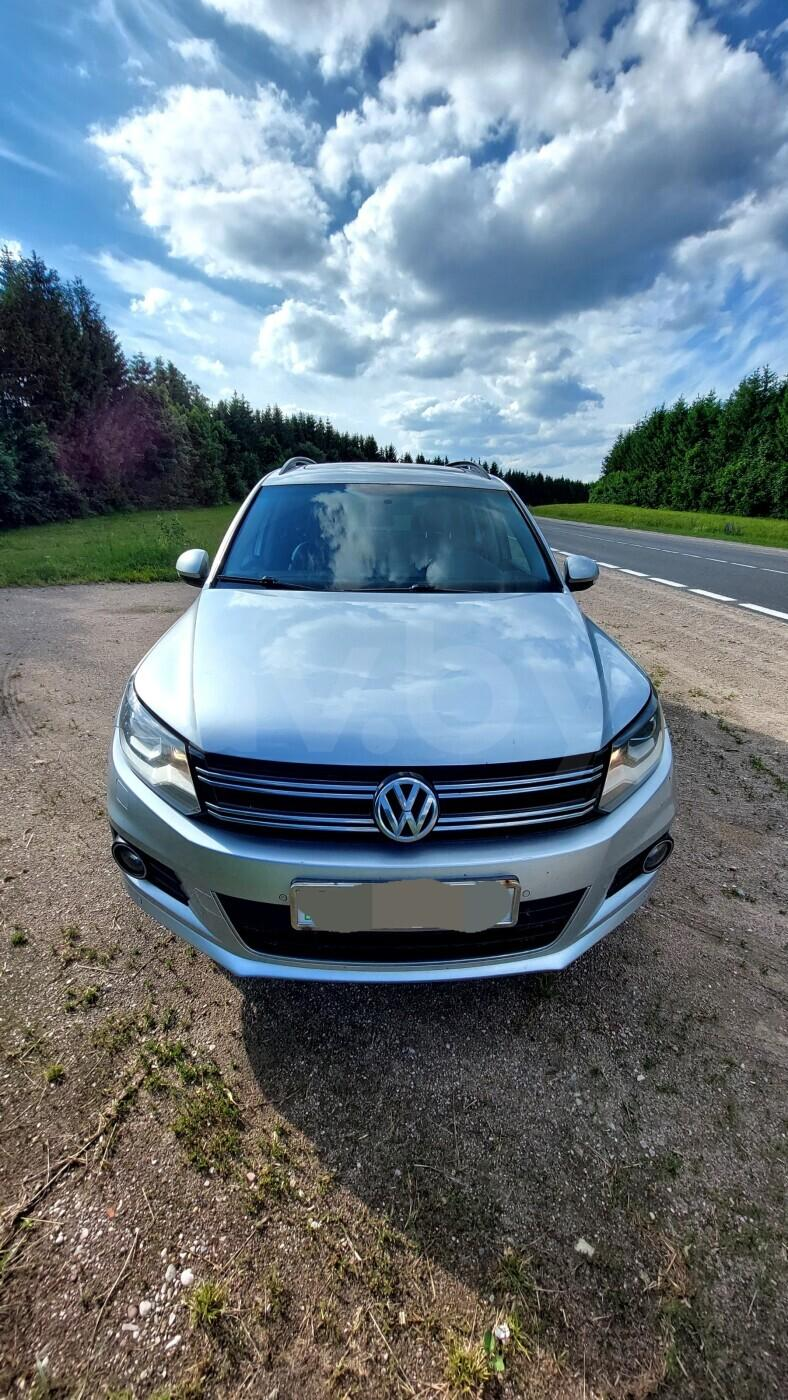Tiguan_2011-2018: (96, 456, 680, 1000)
